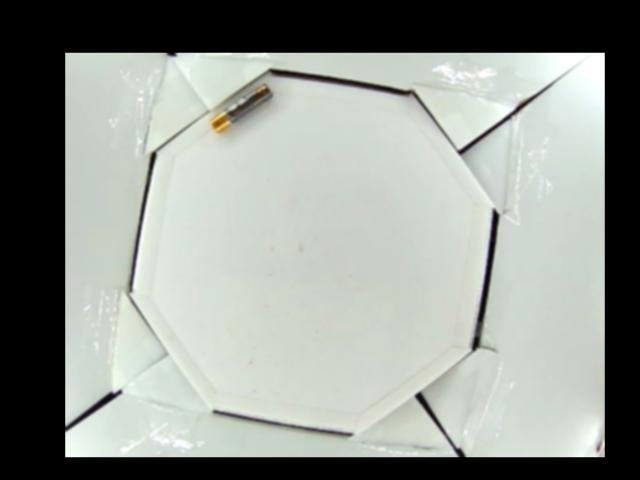Battery: (208, 83, 274, 135)
